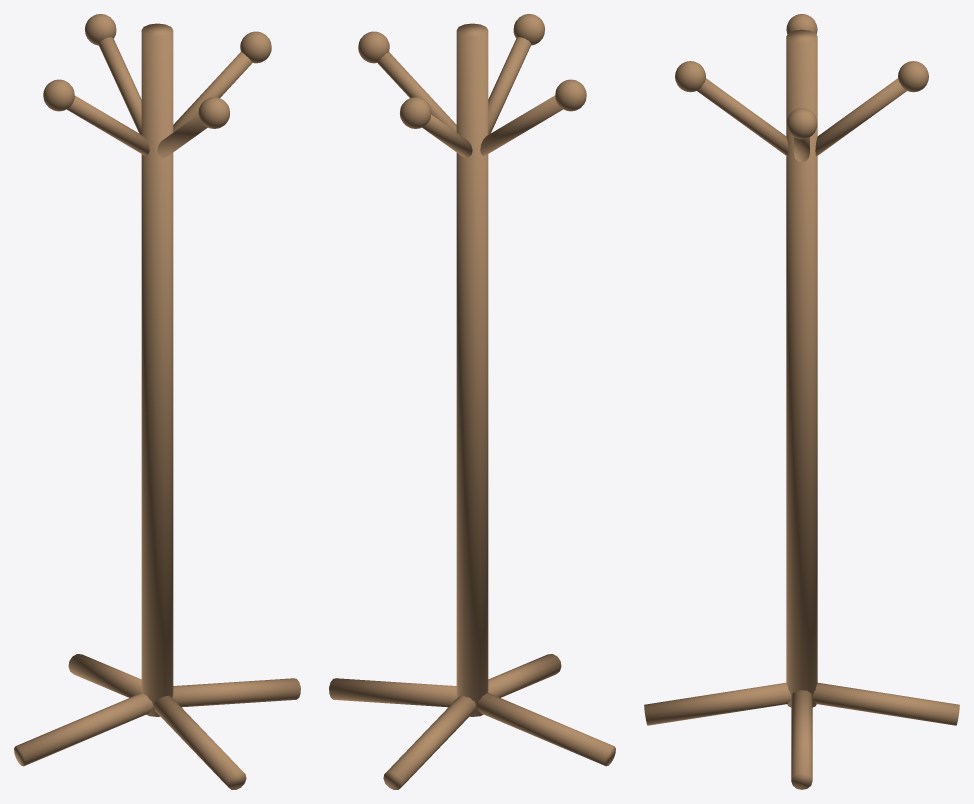
File: atelier-coat-stand.glb
3 views of the same model, side by side, from view 1: azimuth 30°, elevation 25°; view 2: azimuth 150°, elevation 25°; view 3: azimuth 270°, elevation 25° (orthographic).
Parts seen in each view (by area): view 1: legs.097; view 2: legs.097; view 3: legs.097.
Part boxes in pixels (box(x1,y1,x2,y2)): legs.097: box(14, 14, 300, 789); legs.097: box(329, 14, 615, 789); legs.097: box(644, 14, 959, 789).
Bounding box in the file's own units: 0.7081 × 1.7 × 0.7081.
